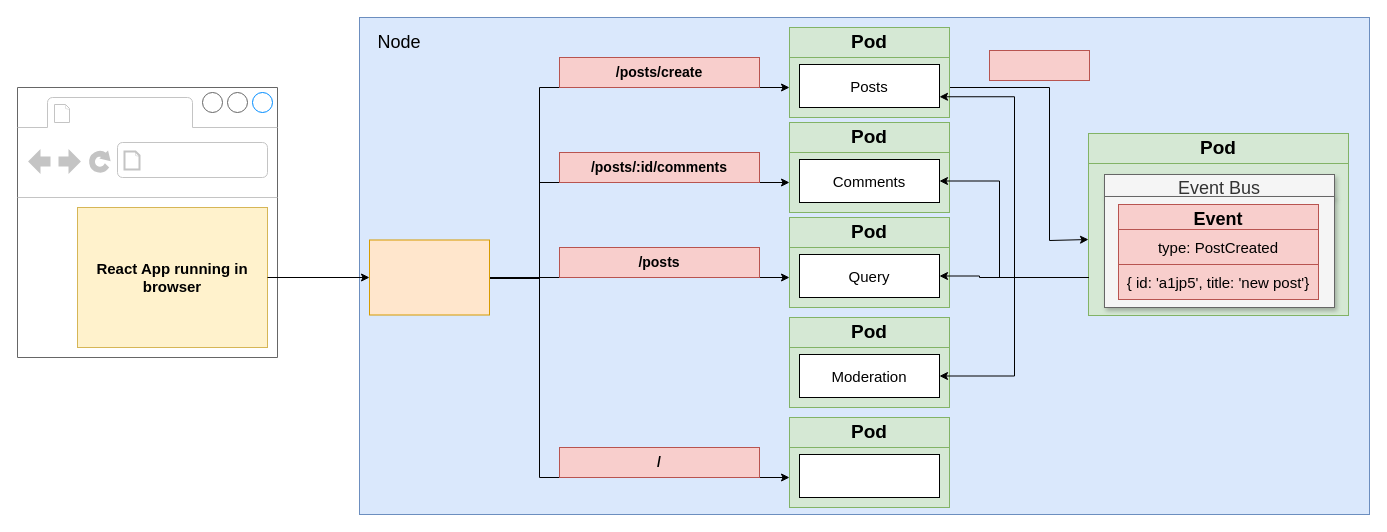
Some shapes in this 1387 by 532 pixel diagram are drawn without their labels. Each missing label, with the centre of its shape:
/events: the point at 1039,65
Ingress Controller: the point at 429,277
Page 1: the point at 132,112
React: the point at 869,476
